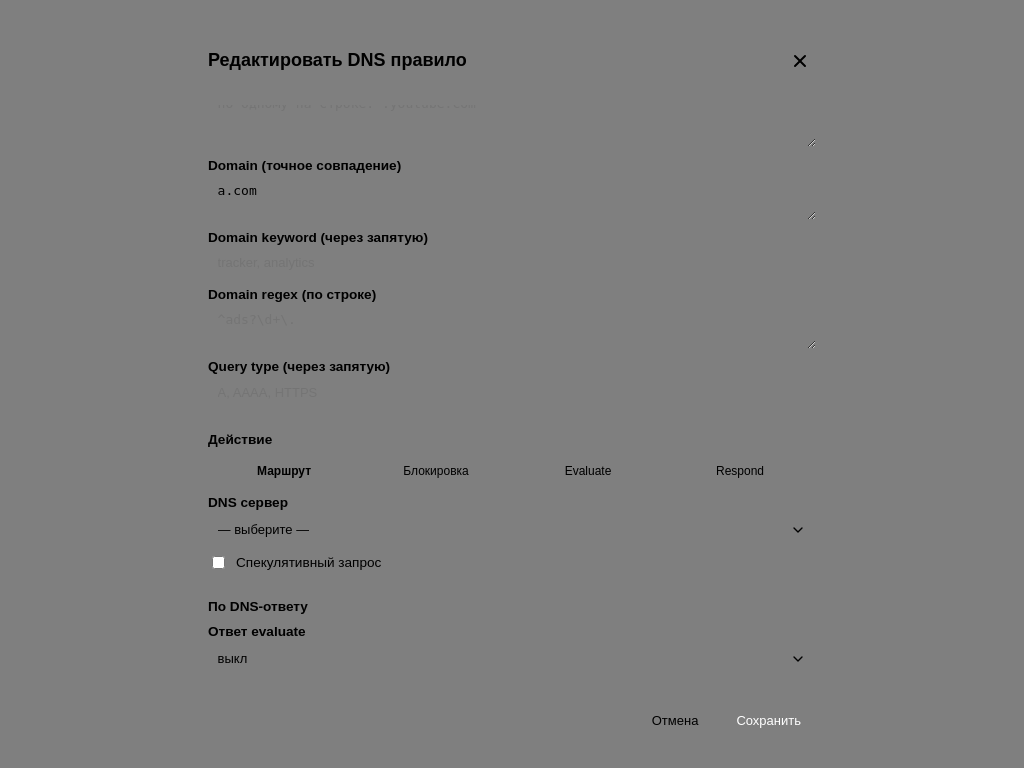
Scenario: DNSRuleEditModal › дропдаун match_response содержит только теги evaluate-правил ВЫШЕ ruleIndex
The width and height of the screenshot is (1024, 768).
(page scrolled)
Step 1. Click the button "выкл" → [232, 658], box [208,643,816,674]
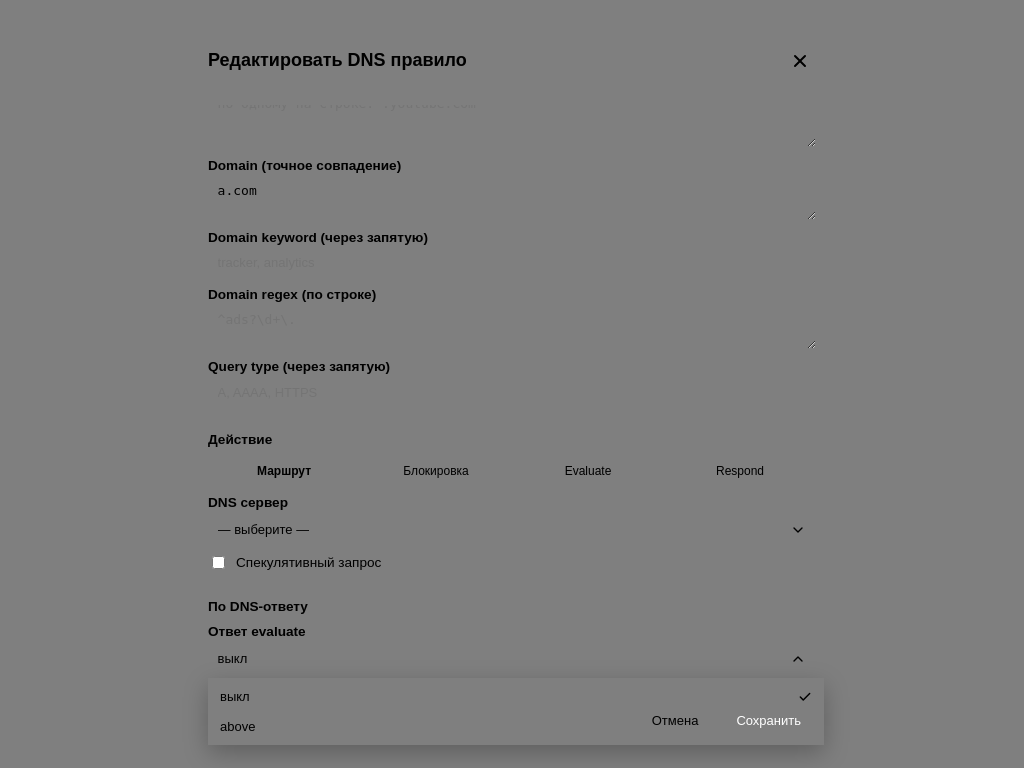
expect the options read "выкл", "above", in this order: met, box [212,682,820,711]; [212,712,820,741]
